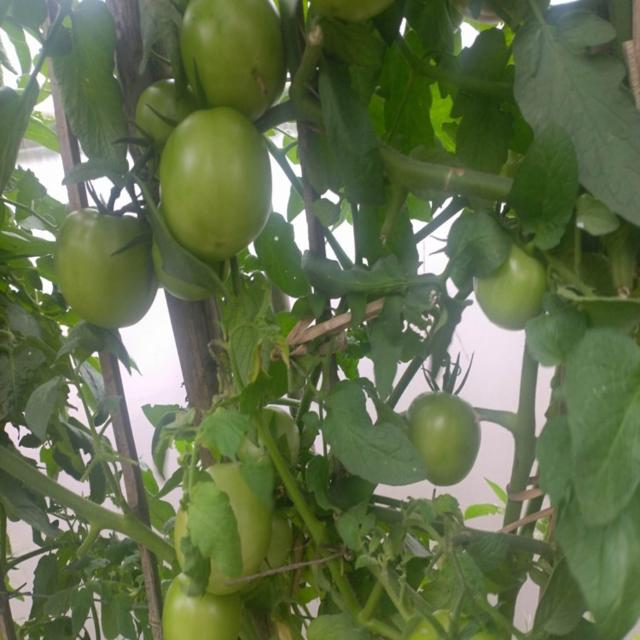tomato: (163, 108, 272, 262), (57, 211, 167, 329), (186, 3, 286, 115), (408, 390, 483, 485), (162, 586, 251, 640), (488, 249, 546, 329), (234, 461, 265, 567), (140, 79, 185, 140)
